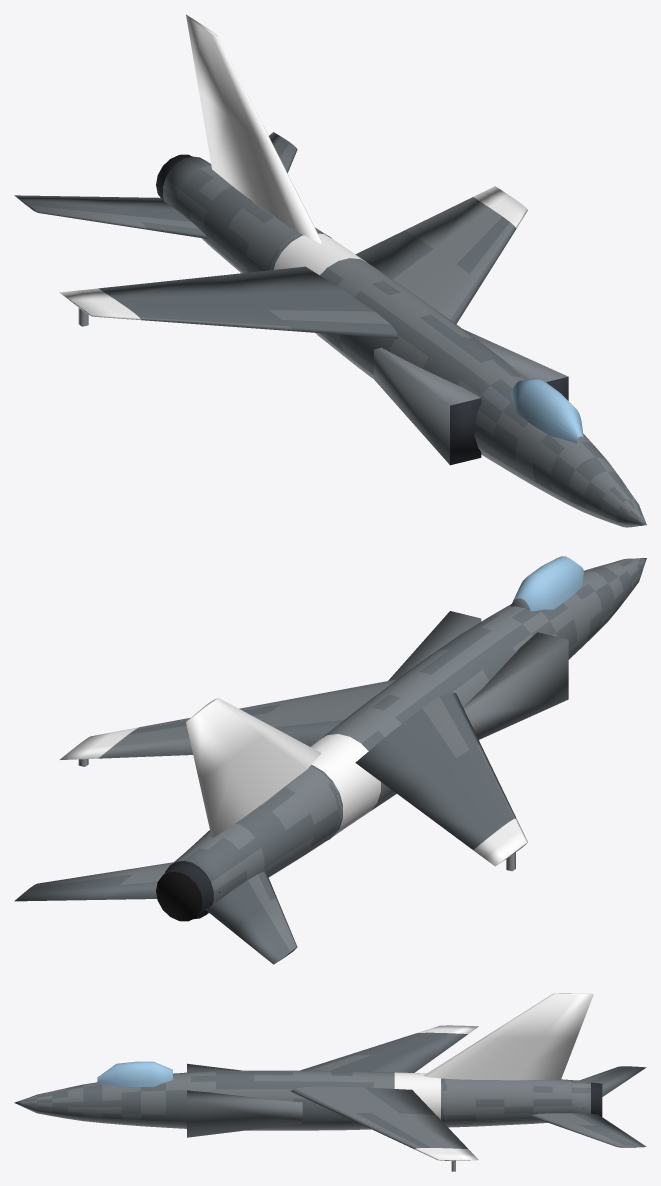
The model's file is mirage_f1c.glb.
The picture shows the model from 3 angles, top to bottom: view 1: azimuth 30°, elevation 25°; view 2: azimuth 150°, elevation 25°; view 3: azimuth 270°, elevation 25°; orthographic projection. The views are drawn at different scales.
Visible parts, largest first — view 1: body; view 2: body; view 3: body.
Part boxes in pixels (<box>): body: <box>14,14,646,527</box>; body: <box>14,556,646,964</box>; body: <box>14,993,646,1171</box>.
Size of the model in its own units: 8.4 by 3.92 by 16.78.
